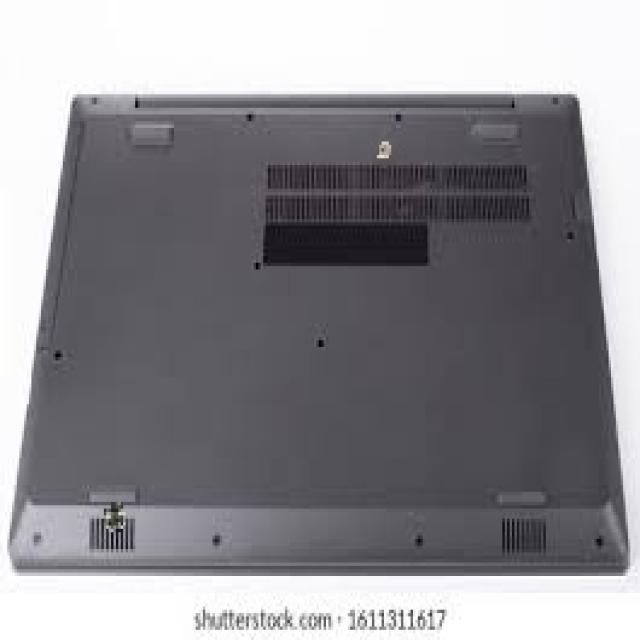lock: (101, 499, 126, 532), (370, 128, 394, 162)
